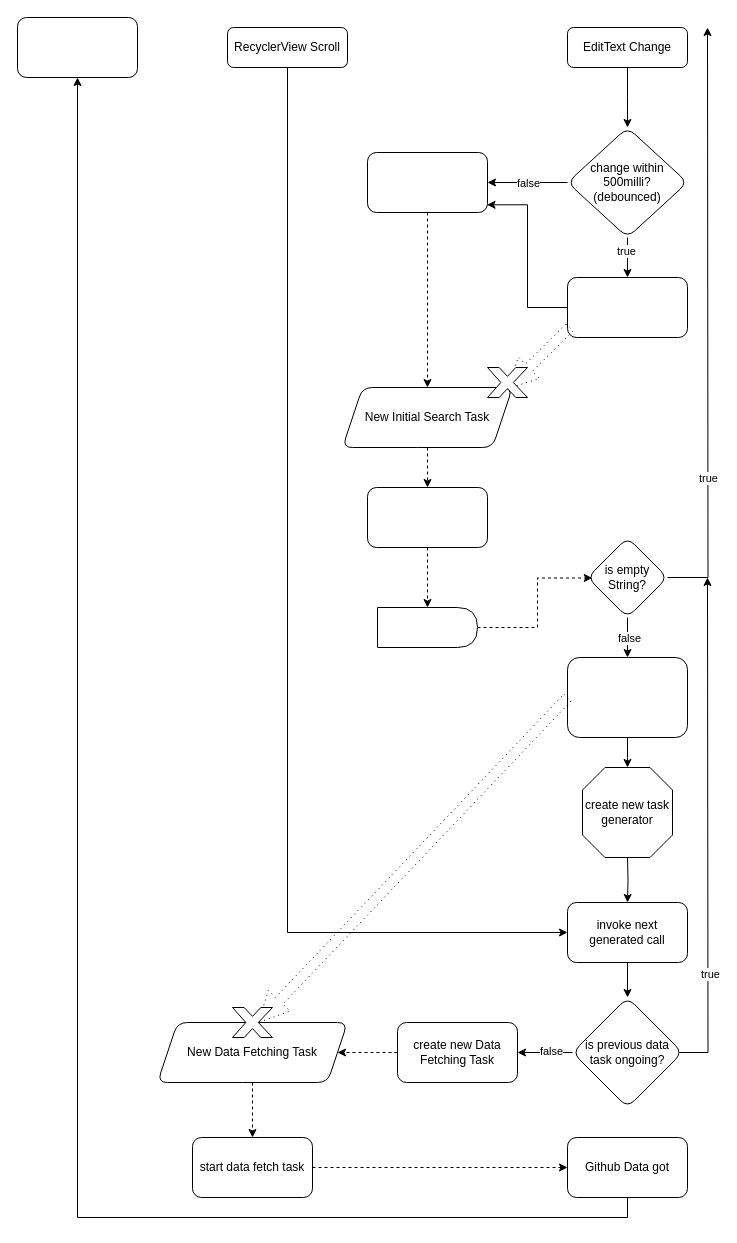
Some shapes in this 737 by 1243 pixel diagram are drawn without their labels. Each missing label, with the centre of its shape:
"cancel previous generator's jobs" goes at point 627,697.
"cancel previous task" goes at point 627,307.
"create new Initial Search Task" goes at point 427,182.
"delay 500 milli" goes at point 427,627.
"start initial search task" goes at point 427,517.
"Update UI" goes at point 77,47.
